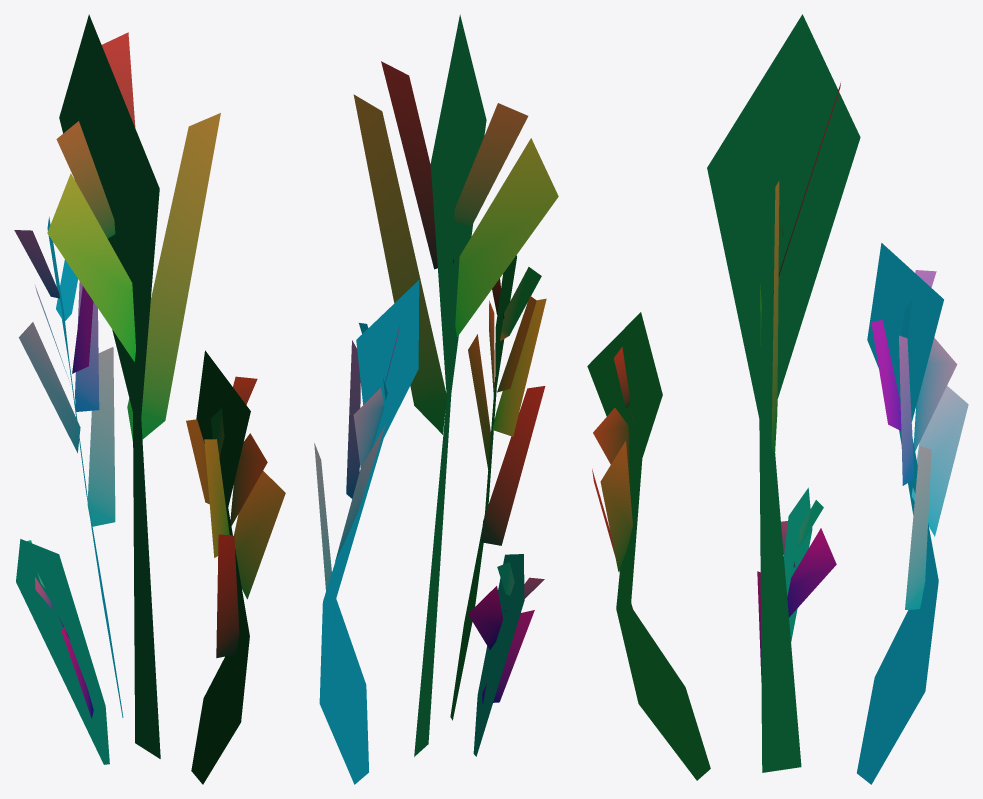
Rendered from Nordic_Coastal_Groundcover_vlqkdeaja_Mid_vlqkdeaja_VarF_LOD2.fbx.
3 renders of one model, left to right at view 1: azimuth 30°, elevation 25°; view 2: azimuth 150°, elevation 25°; view 3: azimuth 270°, elevation 25°, orthographic. The views are drawn at different scales.
Parts seen in each view (by area): view 1: _tnei_VarF_LOD4; view 2: _tnei_VarF_LOD4; view 3: _tnei_VarF_LOD4.
Part boxes in pixels (left/top/right/bottom): _tnei_VarF_LOD4: left=14, top=14, right=285, bottom=784; _tnei_VarF_LOD4: left=314, top=14, right=558, bottom=784; _tnei_VarF_LOD4: left=587, top=14, right=968, bottom=784.
Size of the model in its own units: 21.92 by 83.45 by 39.09.
